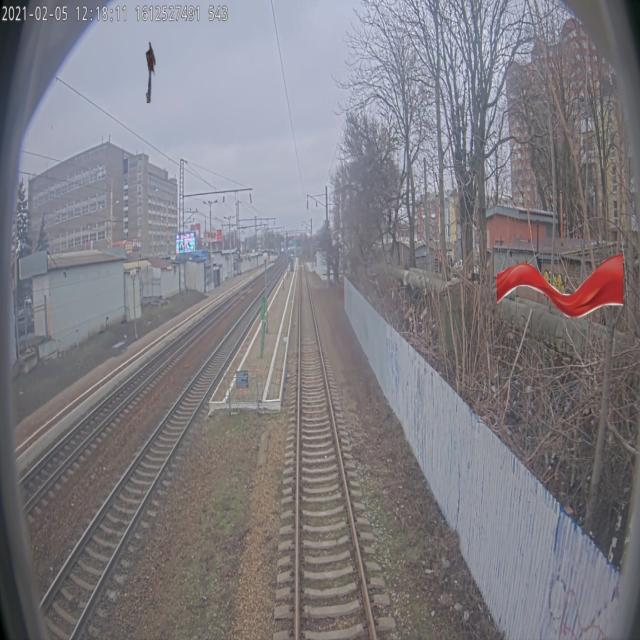floating object: (496, 254, 623, 318), (145, 39, 156, 103), (260, 295, 266, 359)
